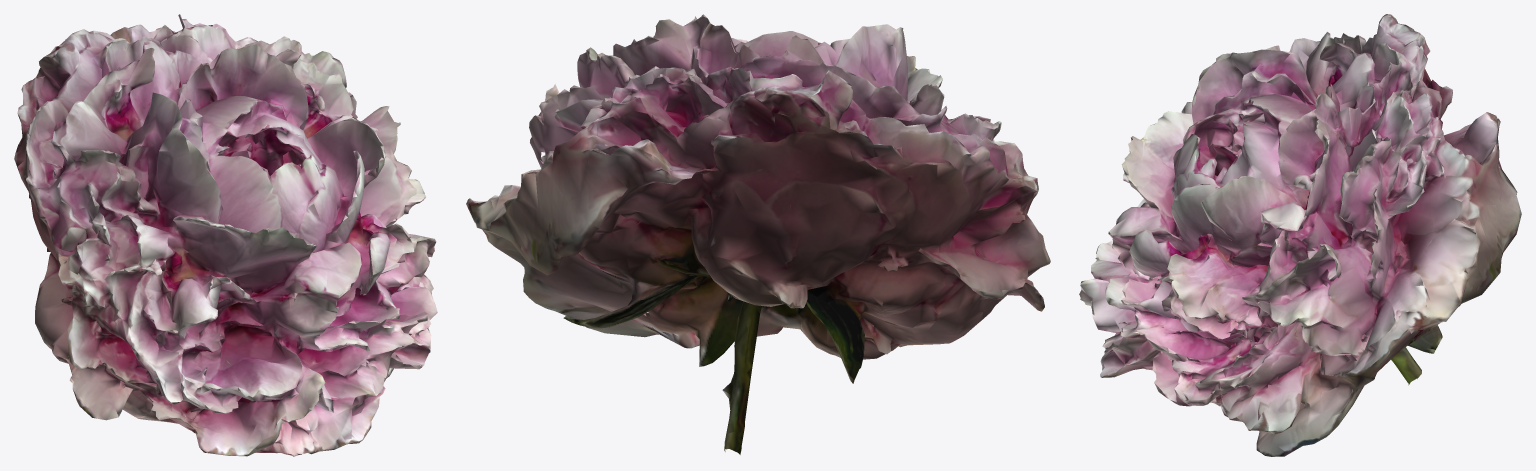
The model's file is peony.glb.
3 views of the same model, side by side, from view 1: azimuth 30°, elevation 25°; view 2: azimuth 150°, elevation 25°; view 3: azimuth 270°, elevation 25° (orthographic). The views are drawn at different scales.
Visible parts, largest first — view 1: Object_4; view 2: Object_4; view 3: Object_4.
Boxes of the visible parts, x1,y1,x2,y2 form: Object_4: (14,14,437,456); Object_4: (466,14,1050,454); Object_4: (1079,14,1521,456).
Bounding box in the file's own units: 1.15 × 0.9338 × 1.12.
Materials: 1 (1 with a texture image).
